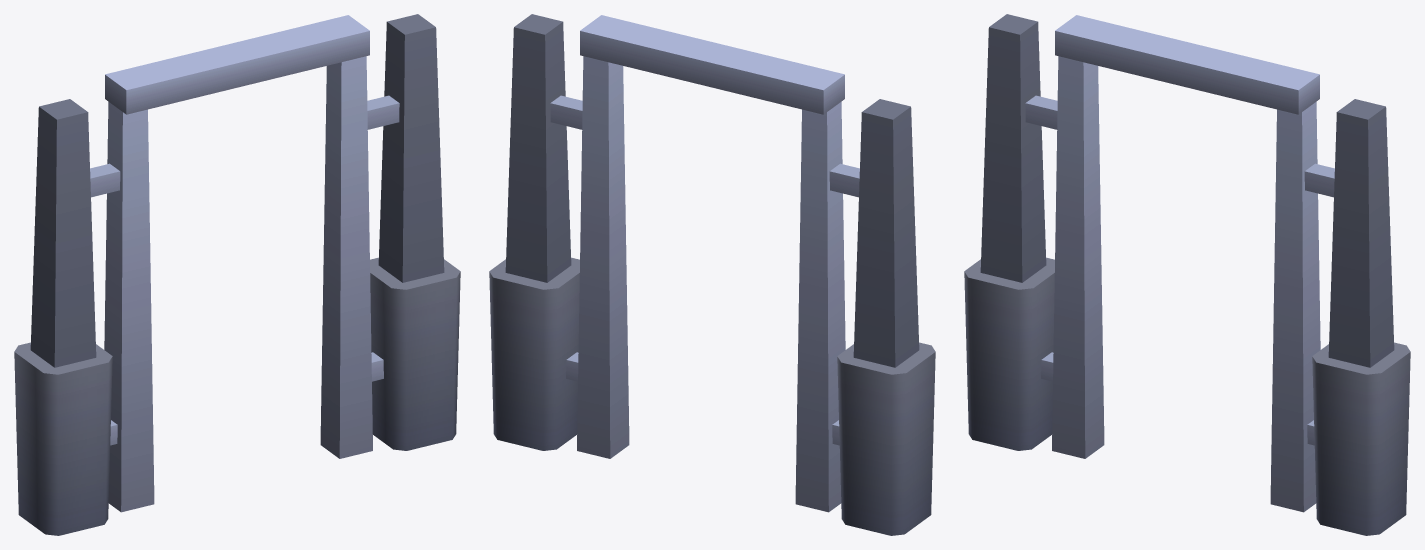
Rendered from structure-metal-doorway.glb.
3 views of the same model, side by side, from view 1: azimuth 30°, elevation 25°; view 2: azimuth 150°, elevation 25°; view 3: azimuth 330°, elevation 25° (orthographic).
Visible parts, largest first — view 1: structure-metal-doorway; view 2: structure-metal-doorway; view 3: structure-metal-doorway.
Boxes of the visible parts, bbox=[...] form: structure-metal-doorway: bbox=[14, 14, 460, 535]; structure-metal-doorway: bbox=[489, 14, 935, 535]; structure-metal-doorway: bbox=[964, 14, 1410, 535].
Bounding box in the file's own units: 0.5354 × 0.5175 × 0.0889.
1 material, 1 textured.
